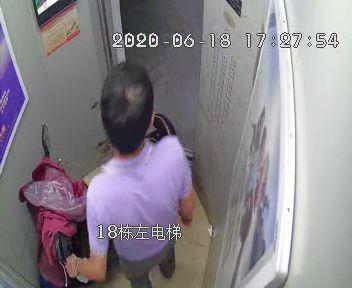Electric-bicycle: (28, 113, 172, 277)
